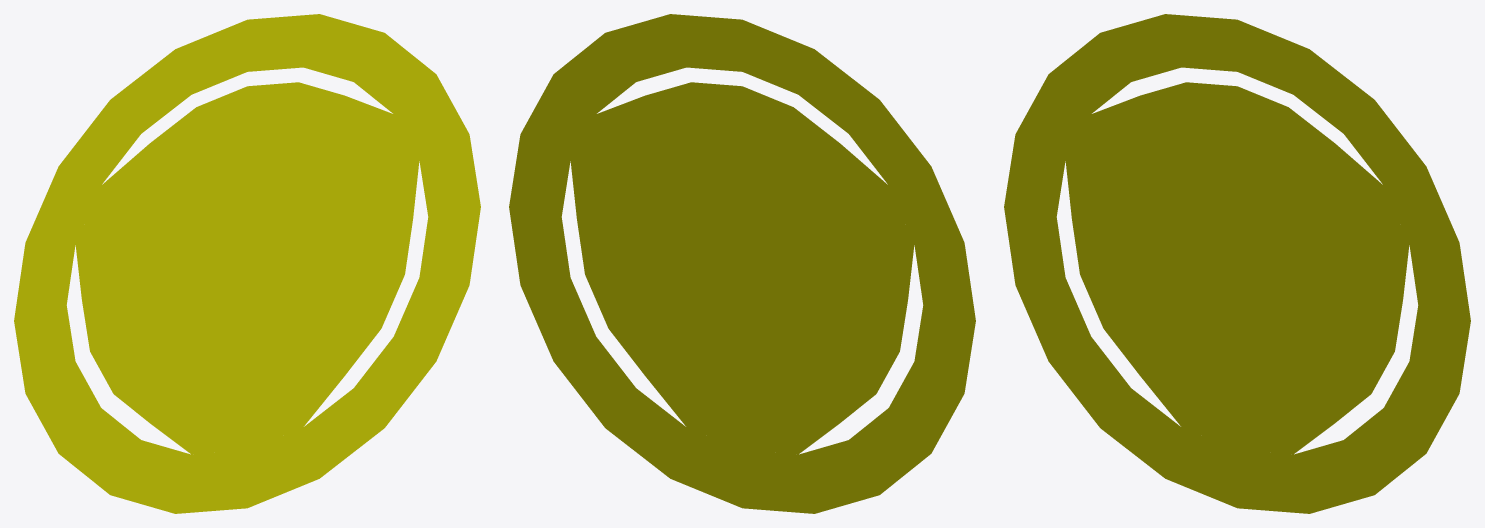
The model's file is FX_Runes.glb.
The picture shows the model from 3 angles, left to right: view 1: azimuth 30°, elevation 25°; view 2: azimuth 150°, elevation 25°; view 3: azimuth 330°, elevation 25°; orthographic projection.
Parts seen in each view (by area): view 1: Runes_Inner, Runes_Outer; view 2: Runes_Inner, Runes_Outer; view 3: Runes_Inner, Runes_Outer.
Part boxes in pixels (x1,y1,x2,y2): Runes_Inner: (75, 82, 419, 454); Runes_Outer: (14, 14, 480, 513); Runes_Inner: (570, 82, 914, 454); Runes_Outer: (509, 14, 975, 513); Runes_Inner: (1065, 82, 1409, 454); Runes_Outer: (1004, 14, 1470, 513).
Size of the model in its own units: 1 by 1 by 1.91e-08.
